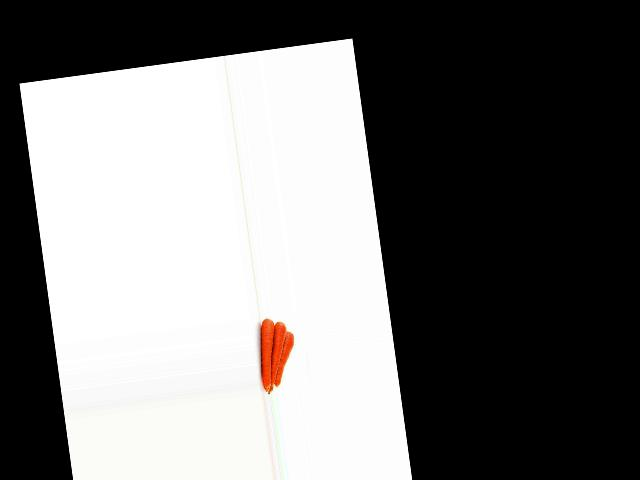carrot: (249, 315, 283, 392)
